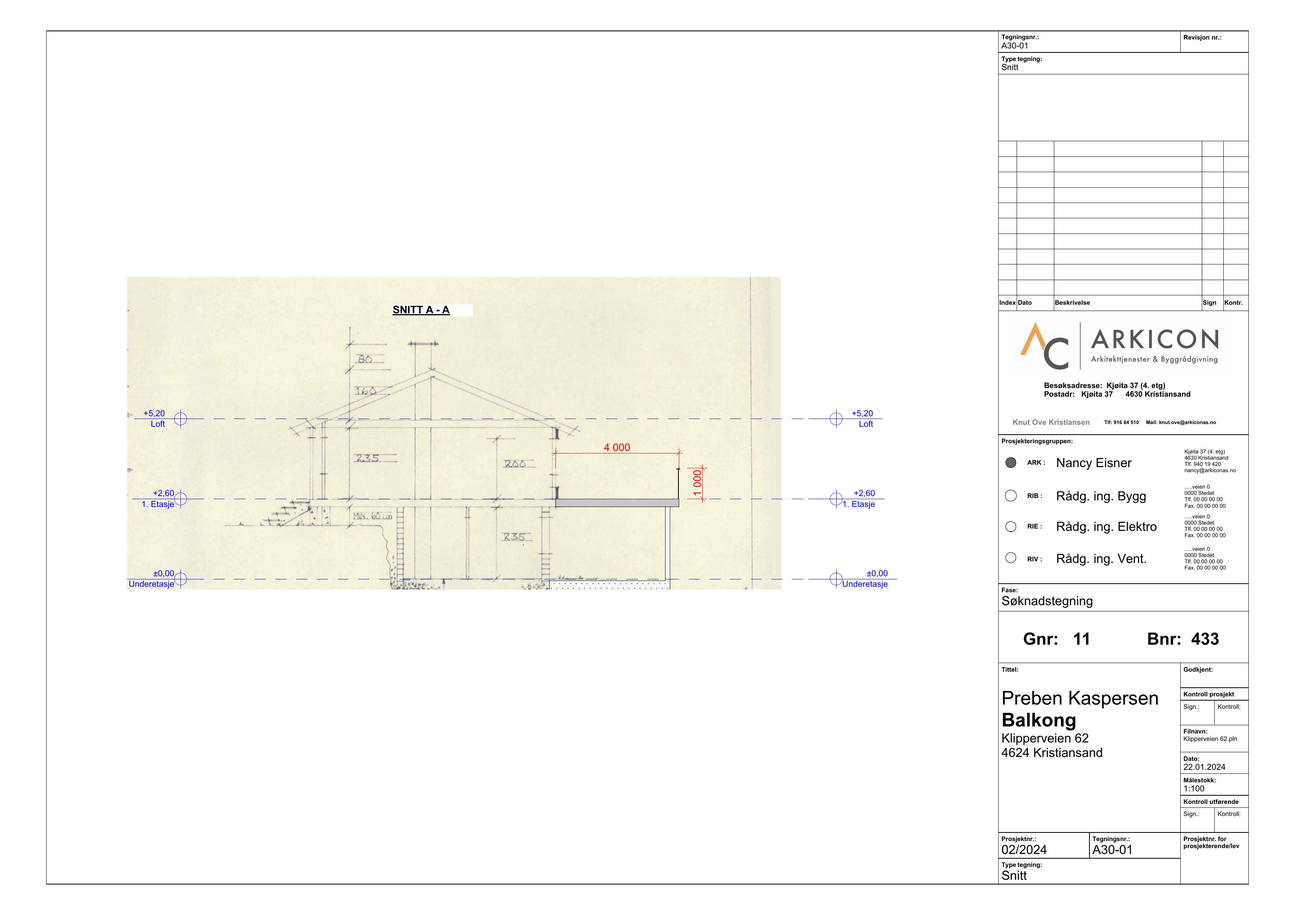snitt: (260, 337, 691, 595)
